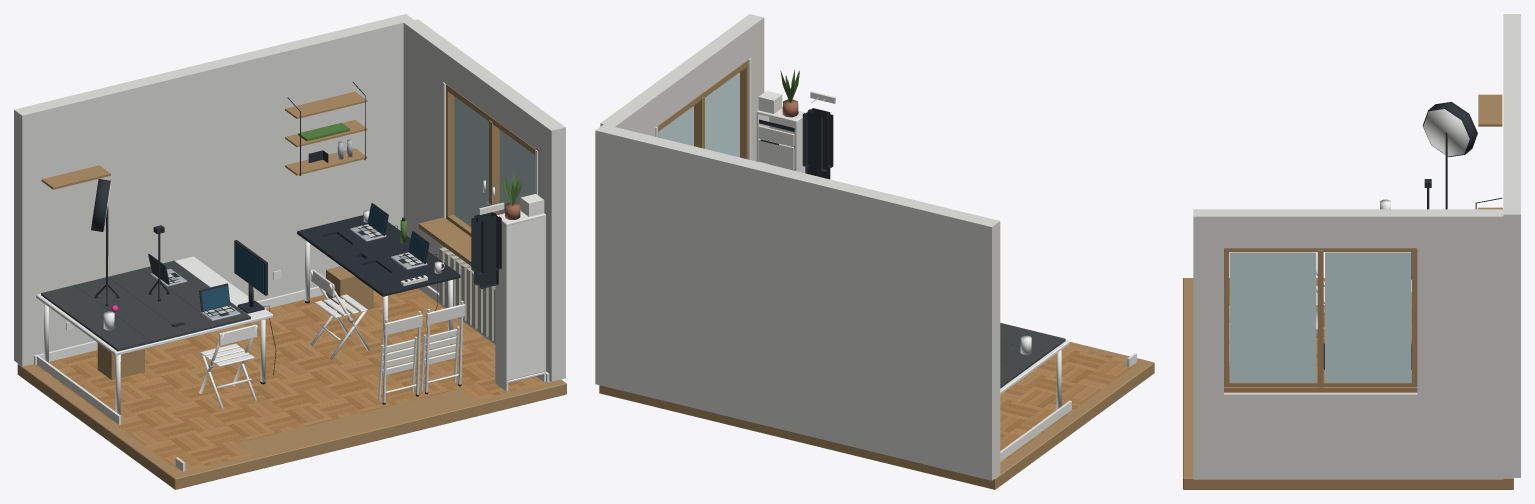
Rendered from pokoj.glb.
3 renders of one model, left to right at view 1: azimuth 30°, elevation 25°; view 2: azimuth 150°, elevation 25°; view 3: azimuth 270°, elevation 25°, orthographic. The views are drawn at different scales.
Visible parts, largest first — view 1: Core_WEB_Walls, Core_WEB_Parquet, Core_WEB_White, Core_WEB_Wood, Core_WEB_Dark, Core_WEB_Foam, Core_WEB_Glass, Core_WEB_Radiator, Core_WEB_Screen, Core_WEB_Metal, Core_WEB_Green, Core_WEB_Keyboard; view 2: Core_WEB_Walls, Core_WEB_Wood, Core_WEB_Parquet, Core_WEB_White, Core_WEB_Glass, Core_WEB_Dark, Core_WEB_Foam; view 3: Core_WEB_Walls, Core_WEB_Glass, Core_WEB_Wood, Core_WEB_White, Core_WEB_Dark.
Boxes of the visible parts, left/top/right/bottom form: Core_WEB_Walls: left=14, top=14, right=565, bottom=381; Core_WEB_Parquet: left=33, top=288, right=550, bottom=472; Core_WEB_White: left=34, top=82, right=549, bottom=471; Core_WEB_Wood: left=17, top=84, right=566, bottom=489; Core_WEB_Dark: left=91, top=82, right=501, bottom=404; Core_WEB_Foam: left=41, top=260, right=250, bottom=351; Core_WEB_Glass: left=454, top=96, right=534, bottom=226; Core_WEB_Radiator: left=439, top=245, right=495, bottom=342; Core_WEB_Screen: left=165, top=205, right=427, bottom=310; Core_WEB_Metal: left=150, top=139, right=491, bottom=368; Core_WEB_Green: left=298, top=122, right=522, bottom=243; Core_WEB_Keyboard: left=167, top=224, right=423, bottom=316; Core_WEB_Walls: left=595, top=14, right=1000, bottom=480; Core_WEB_Wood: left=599, top=60, right=1154, bottom=489; Core_WEB_Parquet: left=1000, top=345, right=1138, bottom=463; Core_WEB_White: left=655, top=58, right=1136, bottom=461; Core_WEB_Glass: left=658, top=72, right=739, bottom=157; Core_WEB_Dark: left=759, top=108, right=833, bottom=179; Core_WEB_Foam: left=1000, top=323, right=1065, bottom=388; Core_WEB_Walls: left=1193, top=14, right=1520, bottom=479; Core_WEB_Glass: left=1230, top=252, right=1411, bottom=382; Core_WEB_Wood: left=1183, top=94, right=1513, bottom=489; Core_WEB_White: left=1229, top=109, right=1469, bottom=369; Core_WEB_Dark: left=1323, top=102, right=1502, bottom=369.
Bounding box in the file's own units: 4.39 × 2.79 × 3.09.
14 materials, 2 textured.
